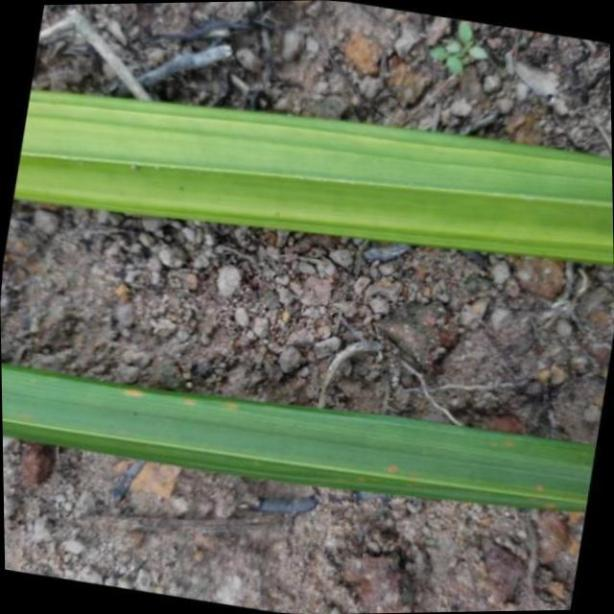nitrogen: (7, 82, 614, 262)
